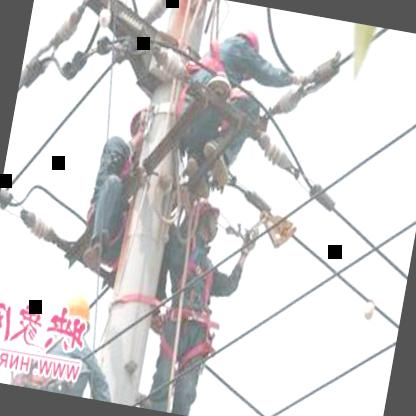helmet: (180, 194, 224, 249), (226, 19, 264, 60)
